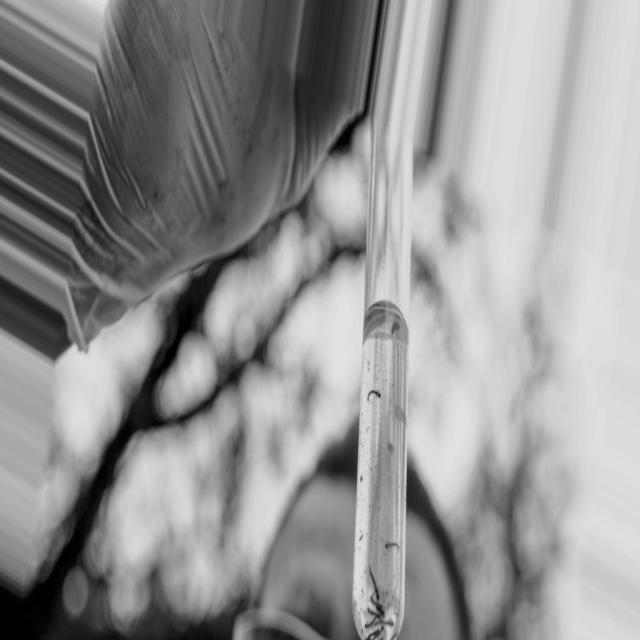larvas: (370, 568, 380, 597), (371, 598, 385, 615), (364, 614, 379, 629), (385, 538, 399, 551), (368, 388, 380, 401), (368, 606, 381, 618), (368, 628, 380, 640), (381, 617, 393, 627), (379, 626, 384, 632)
